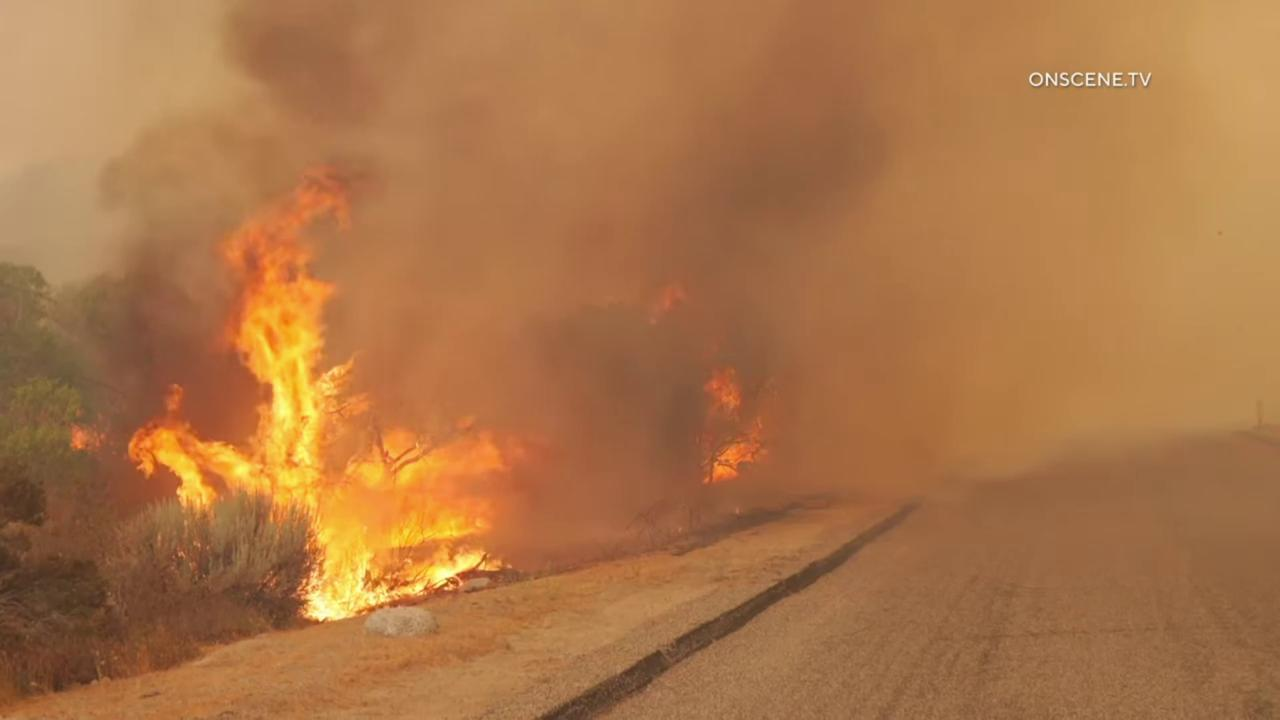fire: (127, 153, 521, 620), (701, 361, 770, 486), (65, 418, 109, 459), (647, 282, 688, 318)
smoke: (0, 0, 1280, 571)
